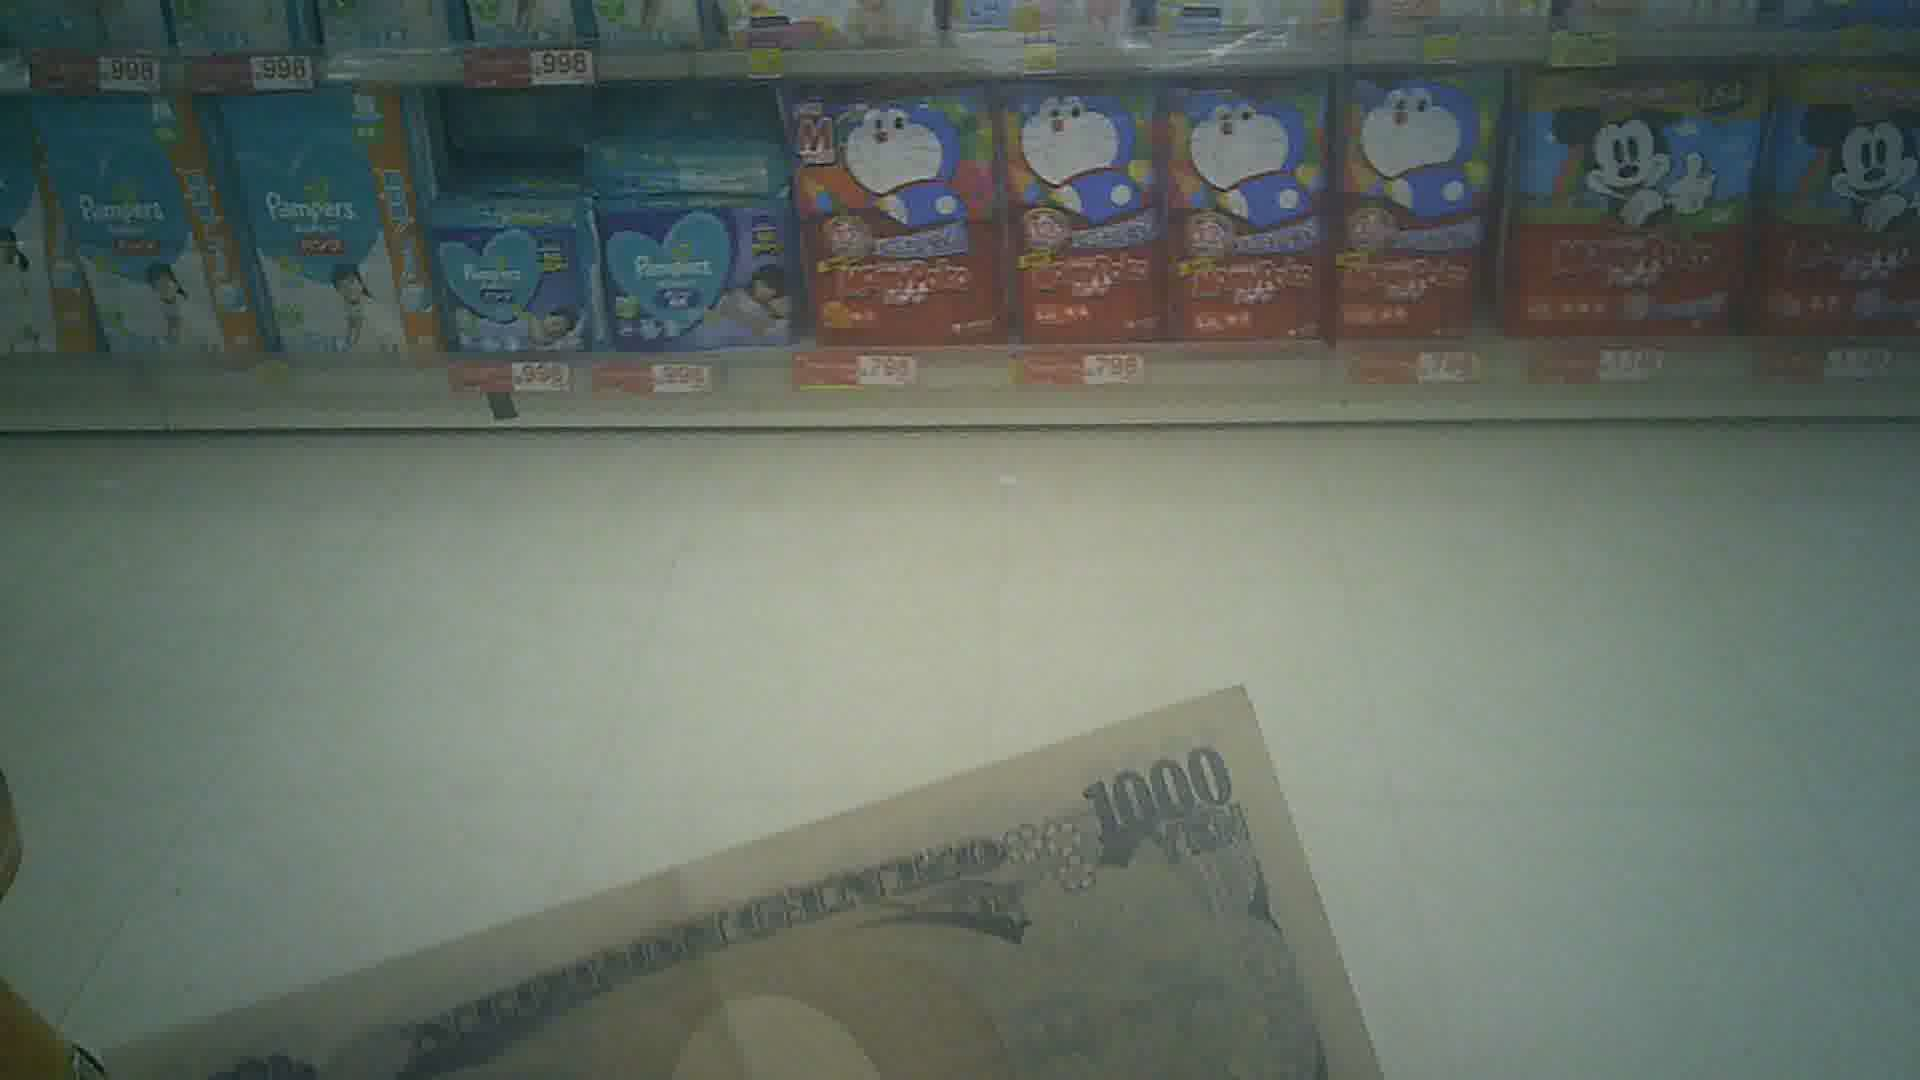1,000 Yen: (215, 686, 1366, 1079)
